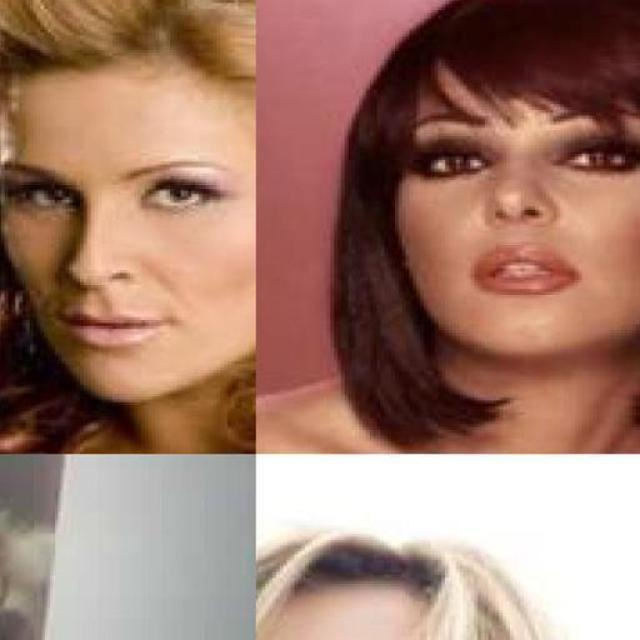bareface: (384, 0, 640, 378), (0, 47, 262, 407)
